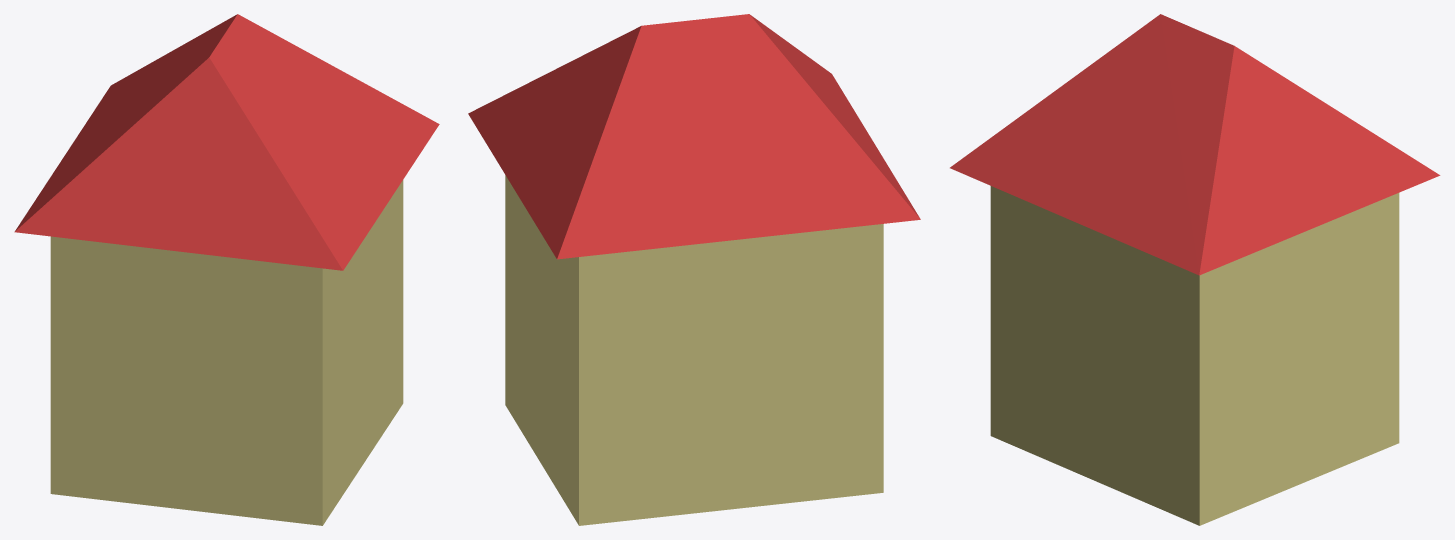
3 renders of one model, left to right at view 1: azimuth 30°, elevation 25°; view 2: azimuth 150°, elevation 25°; view 3: azimuth 270°, elevation 25°, orthographic. The views are drawn at different scales.
Parts seen in each view (by area): view 1: group_5, group_3, group_4; view 2: group_5, group_3, group_4; view 3: group_5, group_3, group_4.
Boxes of the visible parts, x1=… form: group_5: x1=50, y1=180, x2=403, y2=525; group_3: x1=14, y1=14, x2=439, y2=270; group_4: x1=19, y1=74, x2=351, y2=258; group_5: x1=505, y1=175, x2=883, y2=525; group_3: x1=508, y1=14, x2=920, y2=259; group_4: x1=468, y1=93, x2=919, y2=259; group_5: x1=990, y1=186, x2=1399, y2=525; group_3: x1=950, y1=14, x2=1439, y2=275; group_4: x1=1138, y1=156, x2=1440, y2=275.
Bounding box in the file's own units: 16.84 × 16.83 × 15.45.
